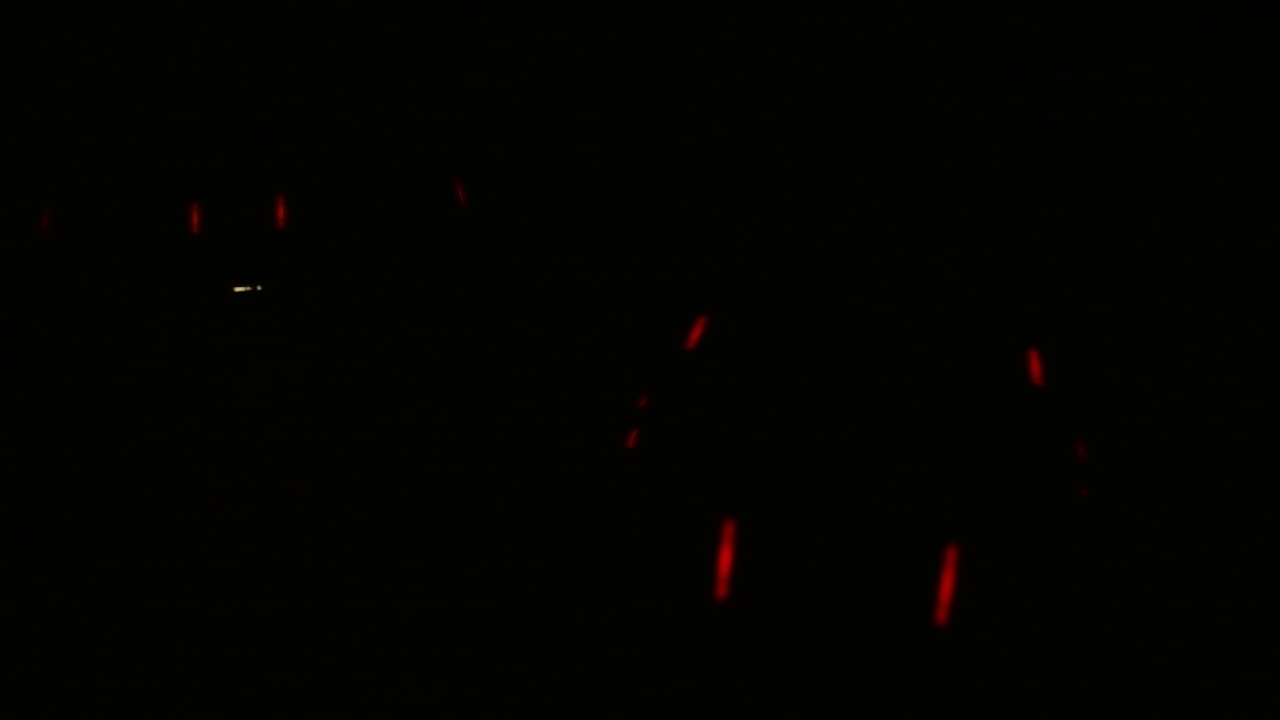pair1: (168, 179, 300, 245)
pair2: (707, 506, 965, 631)
